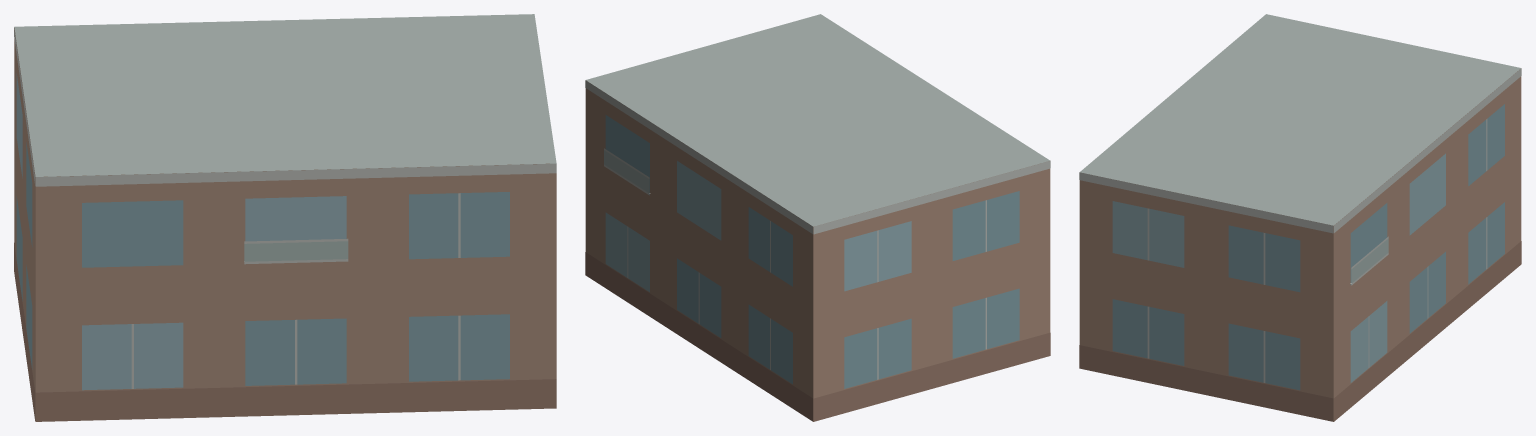
Rendered from survey-upis-32809861.glb.
3 renders of one model, left to right at view 1: azimuth 30°, elevation 25°; view 2: azimuth 150°, elevation 25°; view 3: azimuth 270°, elevation 25°, orthographic. The views are drawn at different scales.
Parts seen in each view (by area): view 1: survey-upis-32809861.tmp; view 2: survey-upis-32809861.tmp; view 3: survey-upis-32809861.tmp.
Boxes of the visible parts, x1,y1,x2,y2 form: survey-upis-32809861.tmp: (14,14,556,421); survey-upis-32809861.tmp: (585,14,1050,421); survey-upis-32809861.tmp: (1079,14,1521,421).
Bounding box in the file's own units: 14.12 × 6.1 × 12.46.
